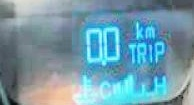-: (99, 56, 105, 66)
0: (84, 25, 101, 61), (102, 23, 119, 59)
X: (97, 78, 111, 98), (153, 38, 164, 63), (153, 73, 165, 94), (126, 41, 136, 63), (136, 41, 146, 63), (133, 18, 143, 39), (144, 23, 154, 38), (147, 41, 153, 63)
